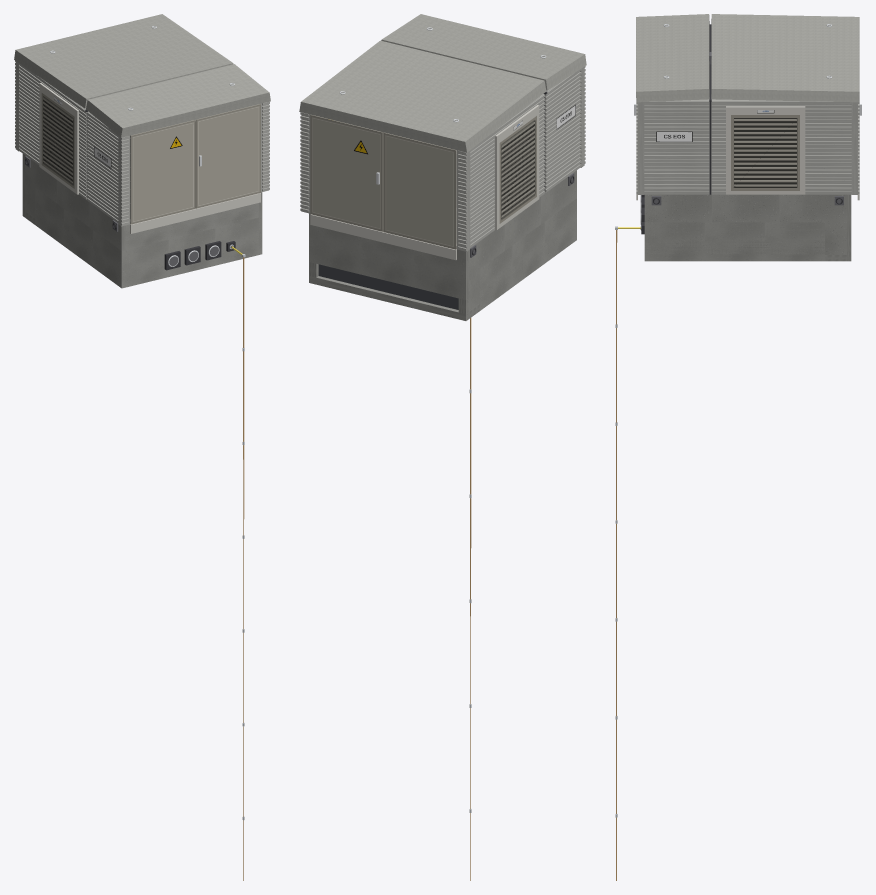
The model's file is cs_eos.glb.
The picture shows the model from 3 angles, left to right: view 1: azimuth 30°, elevation 25°; view 2: azimuth 150°, elevation 25°; view 3: azimuth 270°, elevation 25°; orthographic projection. The views are drawn at different scales.
Visible parts, largest first — view 1: object 254, object 2, object 255, deur_y_2000_0, deur_y_-2000_0, object 3, object 247, object 5, object 242, object 246, object 47, object 20 (+2 smaller); view 2: object 254, deur_y_2000_0, deur_y_-2000_0, object 255, object 8, object 2, object 3, object 247, object 11, object 184, object 7, object 246 (+4 smaller); view 3: object 254, object 4, object 2, object 255, object 251, object 75, object 102, object 250, object 215, object 157, object 419.
Boxes of the visible parts, box(x1,y1,x2,y2) form: object 254: box(14, 14, 233, 108); object 2: box(35, 188, 262, 288); object 255: box(86, 64, 270, 137); deur_y_2000_0: box(195, 104, 260, 208); deur_y_-2000_0: box(130, 120, 195, 224); object 3: box(25, 155, 125, 281); object 247: box(41, 93, 74, 188); object 5: box(125, 203, 258, 249); object 242: box(130, 193, 260, 233); object 246: box(39, 83, 79, 194); object 47: box(87, 111, 126, 226); object 20: box(19, 65, 87, 199); object 254: box(299, 40, 546, 152); deur_y_2000_0: box(383, 132, 456, 249); deur_y_-2000_0: box(310, 114, 383, 231); object 255: box(381, 14, 586, 90); object 8: box(309, 213, 468, 299); object 2: box(480, 198, 576, 310); object 3: box(468, 170, 576, 312); object 247: box(499, 116, 536, 223); object 11: box(318, 264, 458, 309); object 184: box(310, 214, 456, 260); object 7: box(309, 276, 468, 320); object 246: box(494, 105, 539, 229); object 254: box(711, 14, 859, 102); object 4: box(644, 194, 846, 254); object 2: box(644, 222, 824, 261); object 255: box(636, 14, 709, 102); object 251: box(731, 115, 799, 190); object 75: box(711, 99, 851, 194); object 102: box(644, 99, 709, 194); object 250: box(726, 106, 805, 194); object 215: box(637, 102, 644, 194); object 157: box(851, 102, 857, 194); object 419: box(616, 230, 617, 880).
Size of the model in its own units: 25.37 by 124 by 34.28.
Materials: 57 (23 with a texture image).
